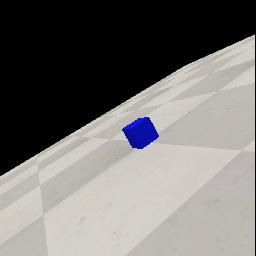box: (122, 117, 159, 149)
